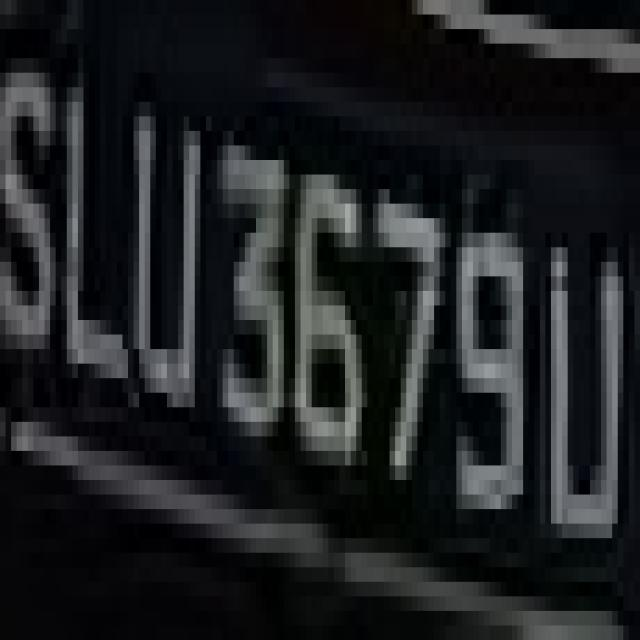3: (206, 102, 295, 480)
6: (278, 102, 373, 465)
7: (362, 146, 451, 538)
9: (456, 175, 534, 567)
L: (72, 43, 139, 466)
S: (5, 29, 72, 451)
U: (545, 218, 629, 567), (133, 87, 206, 422)
